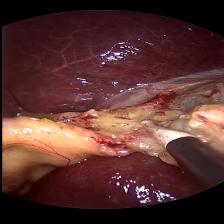Hook: (135, 116, 198, 152)
